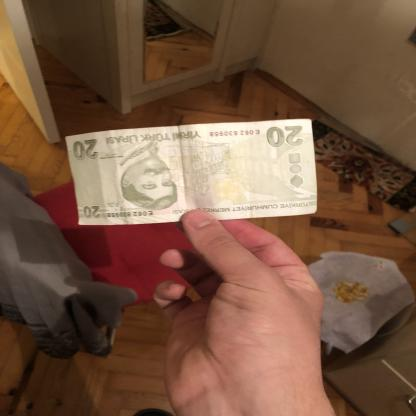5 TL: (63, 117, 320, 226)
